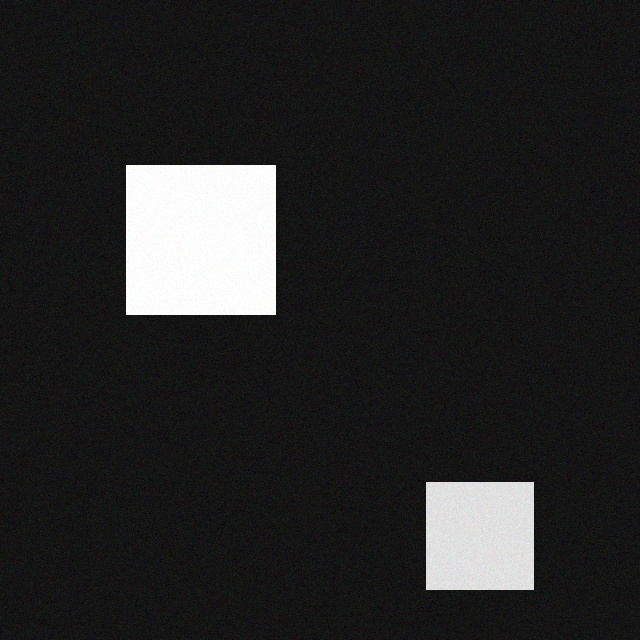square: (115, 153, 264, 302), (415, 470, 522, 577)
